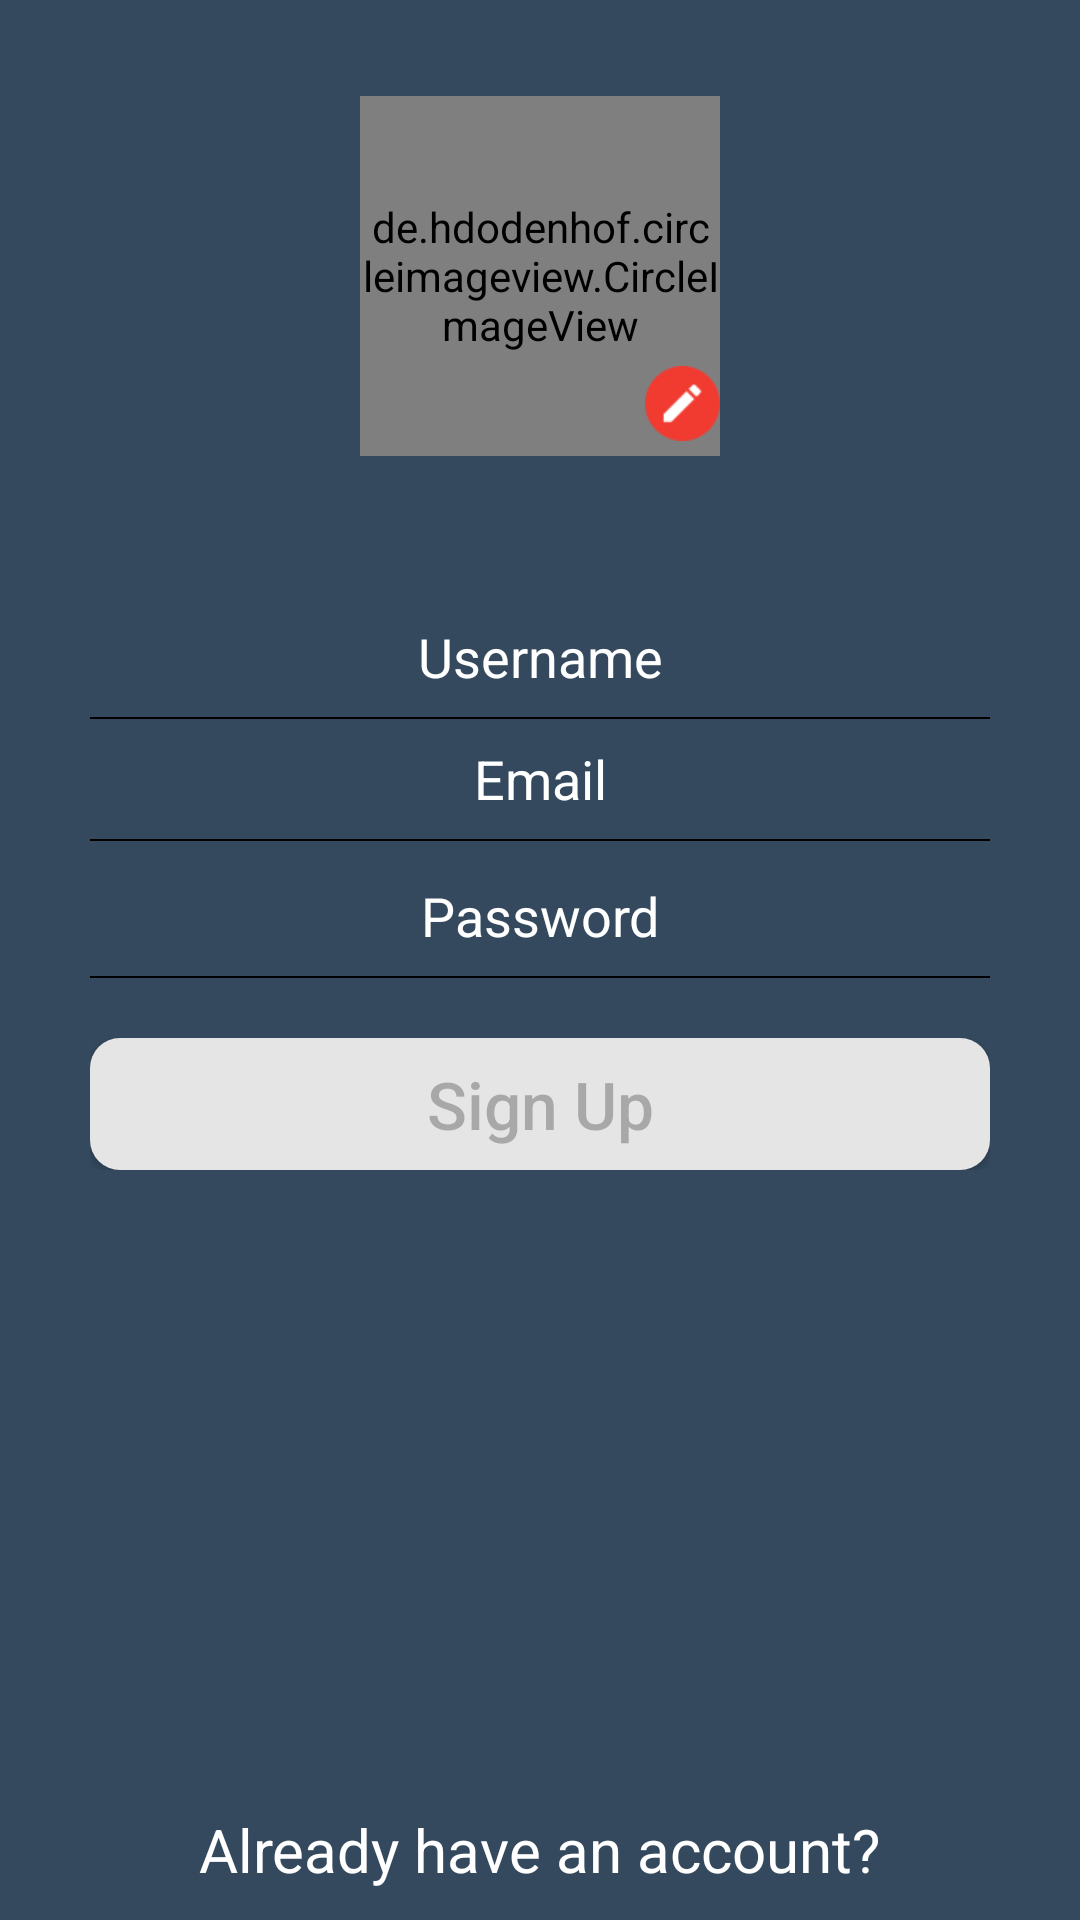

Named icons in this screenshot (1080 × 1920) and their centers, point (x, y):
edit profile: point (682, 403)
